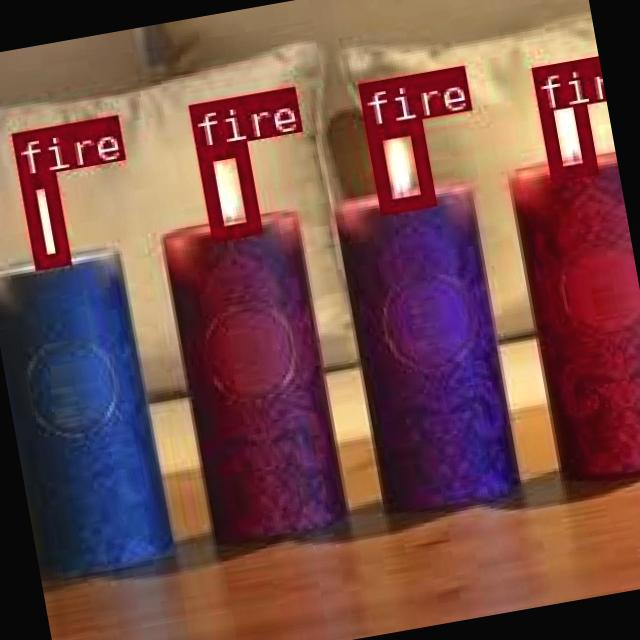fire: (531, 61, 594, 178), (194, 141, 259, 239), (362, 117, 430, 210), (16, 171, 67, 266)
